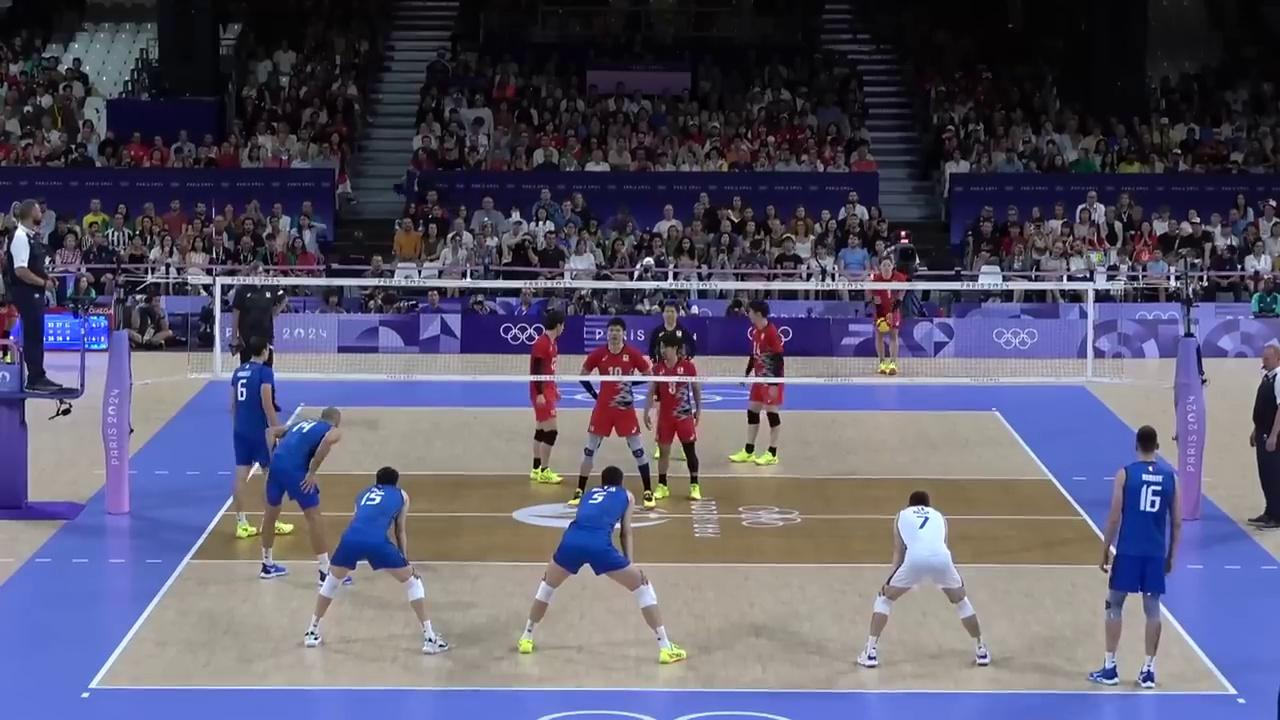ball: (876, 317, 888, 332)
